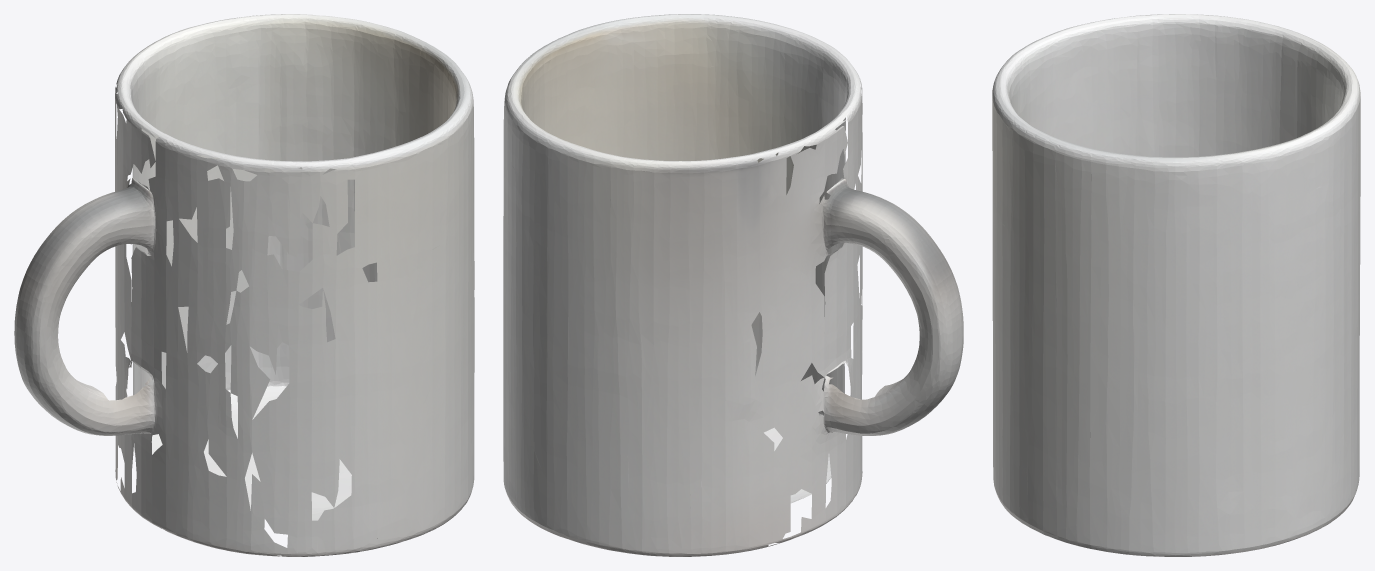
3 views of the same model, side by side, from view 1: azimuth 30°, elevation 25°; view 2: azimuth 150°, elevation 25°; view 3: azimuth 270°, elevation 25° (orthographic).
Visible parts, largest first — view 1: geometry_0; view 2: geometry_0; view 3: geometry_0.
Part boxes in pixels (x1,y1,x2,y2): geometry_0: (14,14,474,556); geometry_0: (503,14,963,556); geometry_0: (992,14,1360,556).
Bounding box in the file's own units: 1 × 0.8827 × 0.7423.
1 material, 1 textured.
